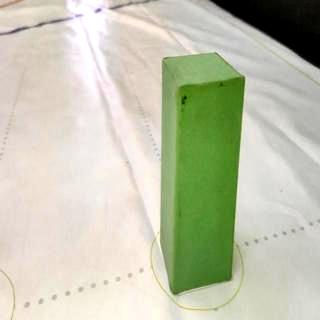greenbox: (160, 51, 246, 294)
